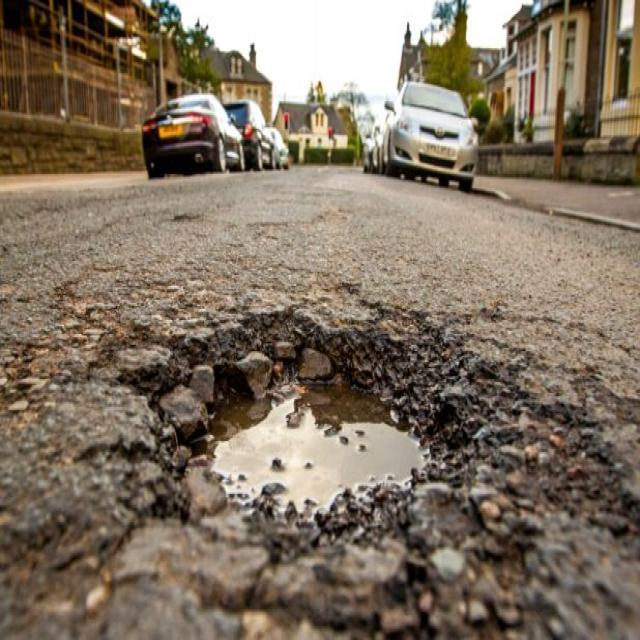pothole: (108, 303, 494, 547)
